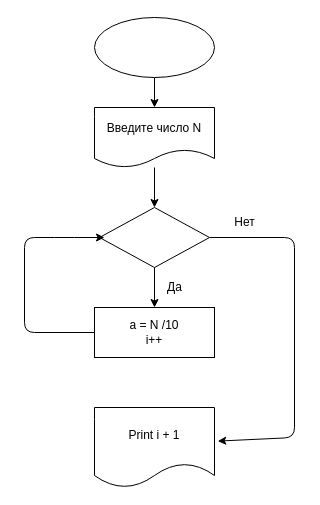
This 320x505 diagram has some shape labels left out. The shapes that lost their labels are listed below. From the top down, each one's centre as x and y in pixels, then its label:
At pixel 154 47: "Начало".
At pixel 154 237: "N%10 == 0".
